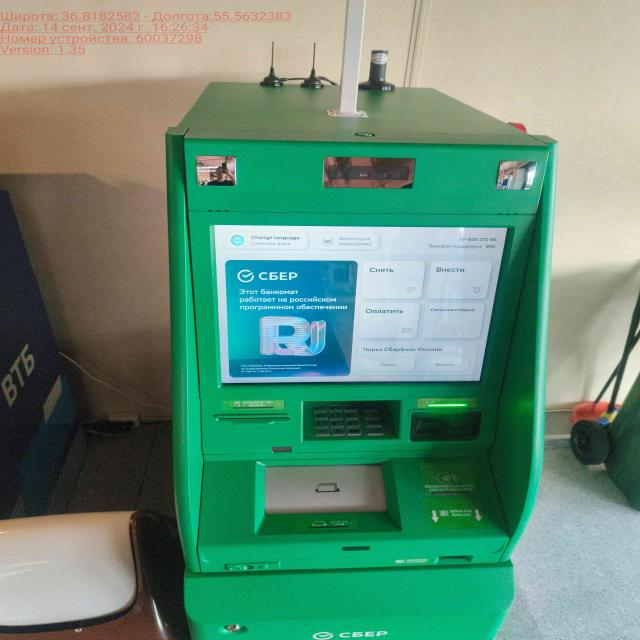bank: (161, 79, 552, 640)
